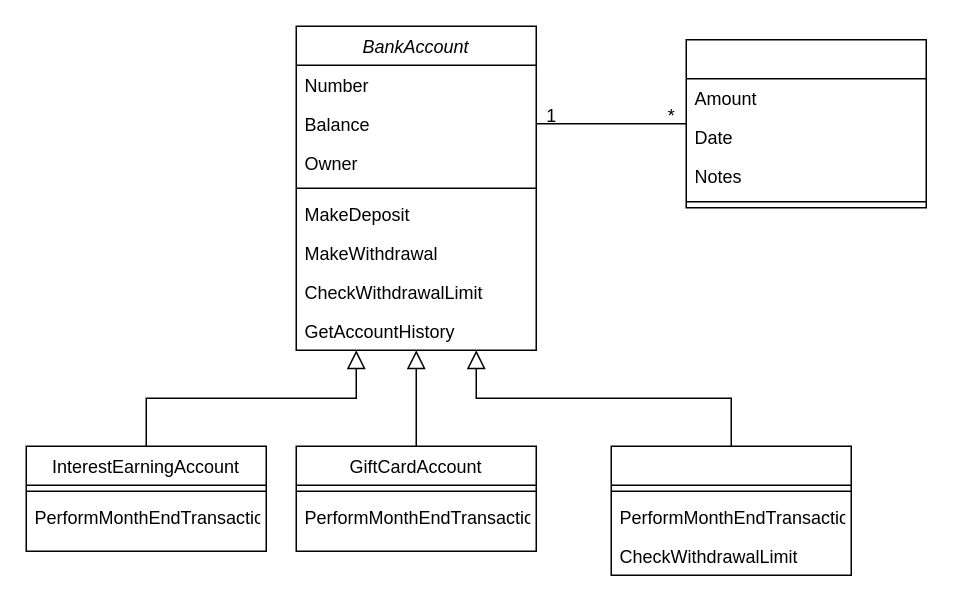
Some shapes in this 953 by 606 pixel diagram are drawn without their labels. The shapes that lost their labels are listed below. From the top down, each one's box as (x1, y1, x2, y2) in pixels, then its label:
(685, 38, 926, 208): Transaction
(610, 445, 851, 575): LineOfCreditAccount
